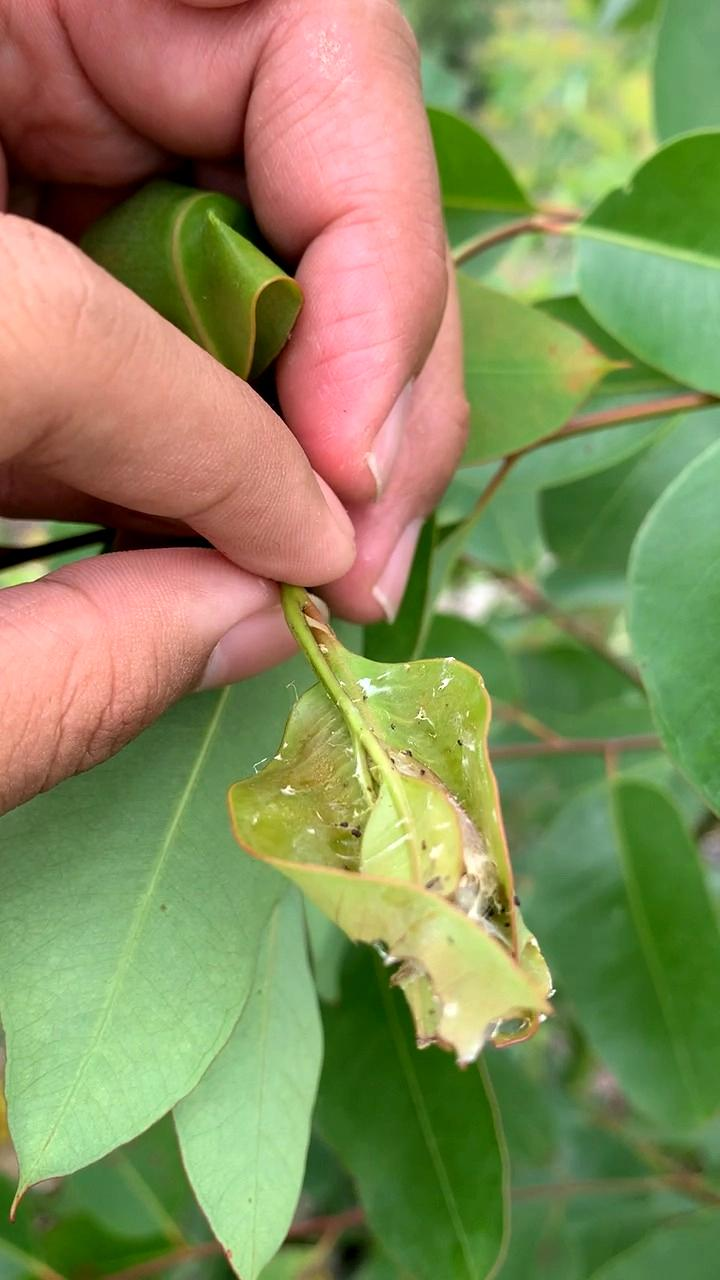Leaf Roller - Leaf: (241, 641, 569, 1073)
